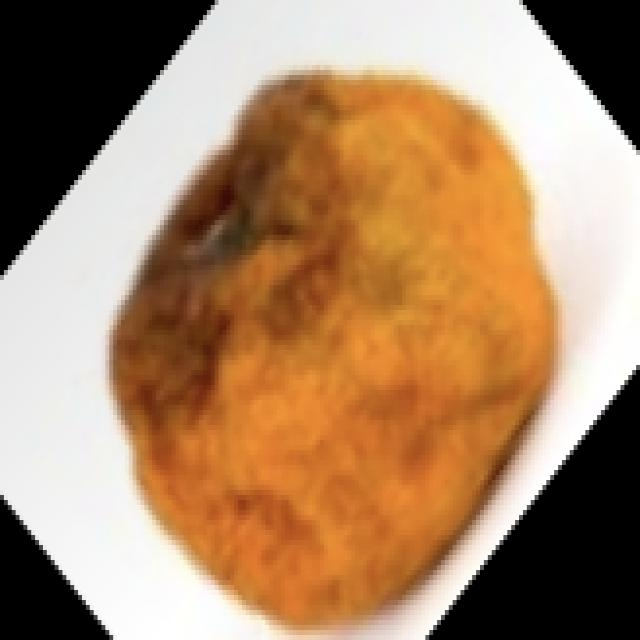sangat_busuk: (103, 61, 559, 633)
